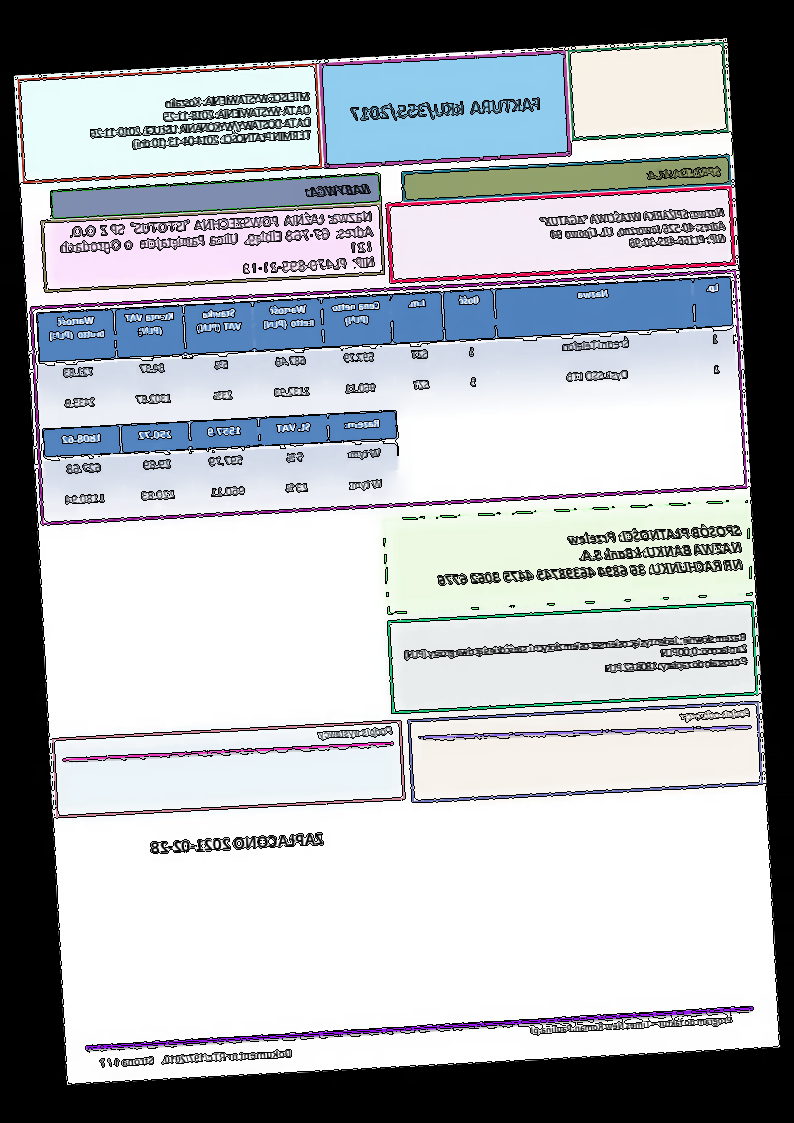Table: (36, 275, 739, 426), (40, 409, 402, 521)
TextBox: (58, 207, 378, 286), (434, 518, 746, 591), (400, 627, 750, 687), (88, 86, 314, 154), (538, 204, 728, 254), (349, 93, 543, 126), (528, 1013, 736, 1038), (95, 1045, 293, 1071), (148, 829, 325, 856), (643, 161, 725, 183), (314, 723, 395, 744), (679, 704, 753, 725), (303, 179, 372, 200)
